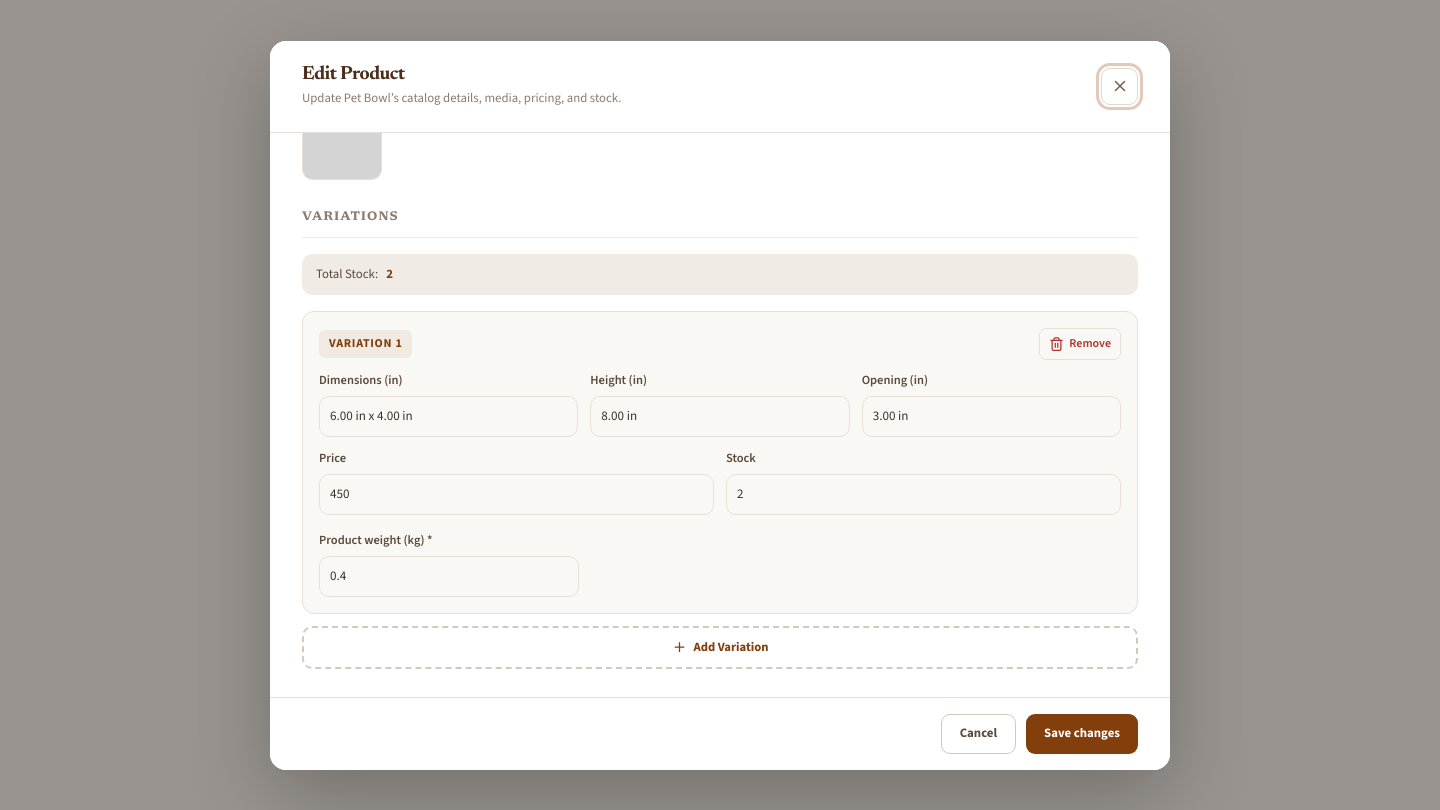
Test: ProductEditorDialog › blocks saving invalid weight 0
(page scrolled)
Expected: the text "Variation 1" is shown, [319, 330, 412, 358]
Replace the text in the number field labelled "Product weight (kg) *" with "0" at (449, 576), box [319, 556, 579, 597]
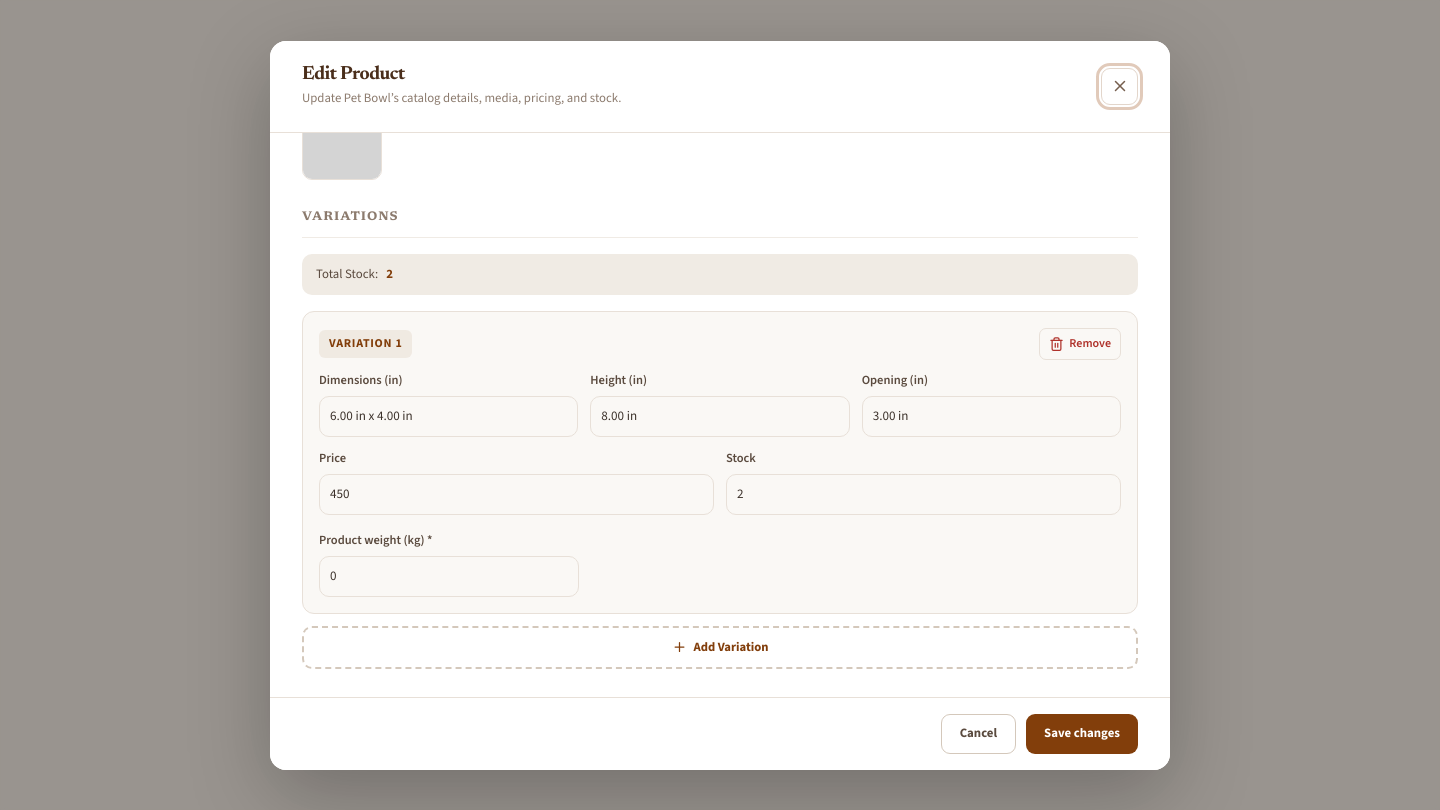
Click the button "Save changes" at (1082, 734), box [1026, 714, 1138, 754]
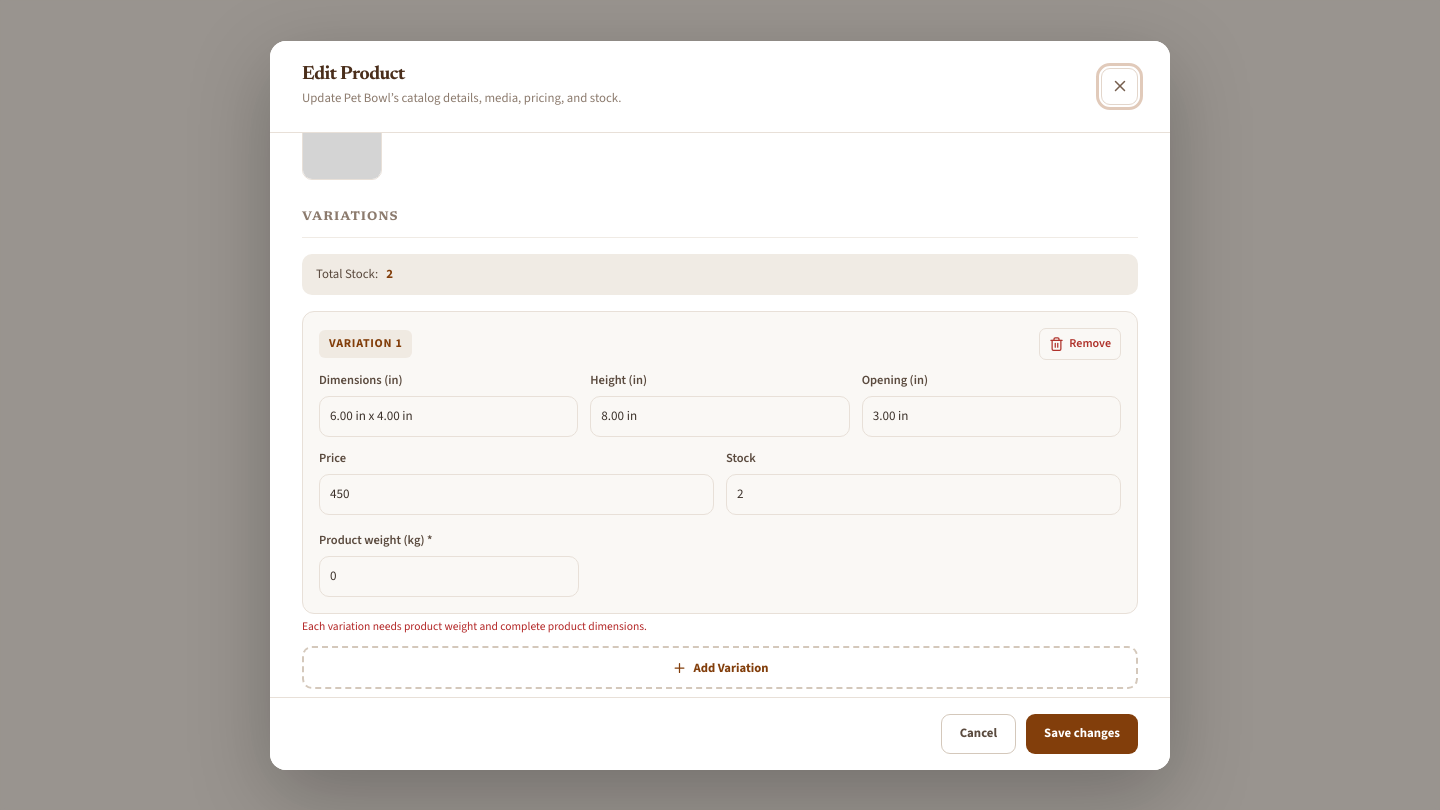
Expected: the message shows "needs product weight", [302, 618, 647, 635]
